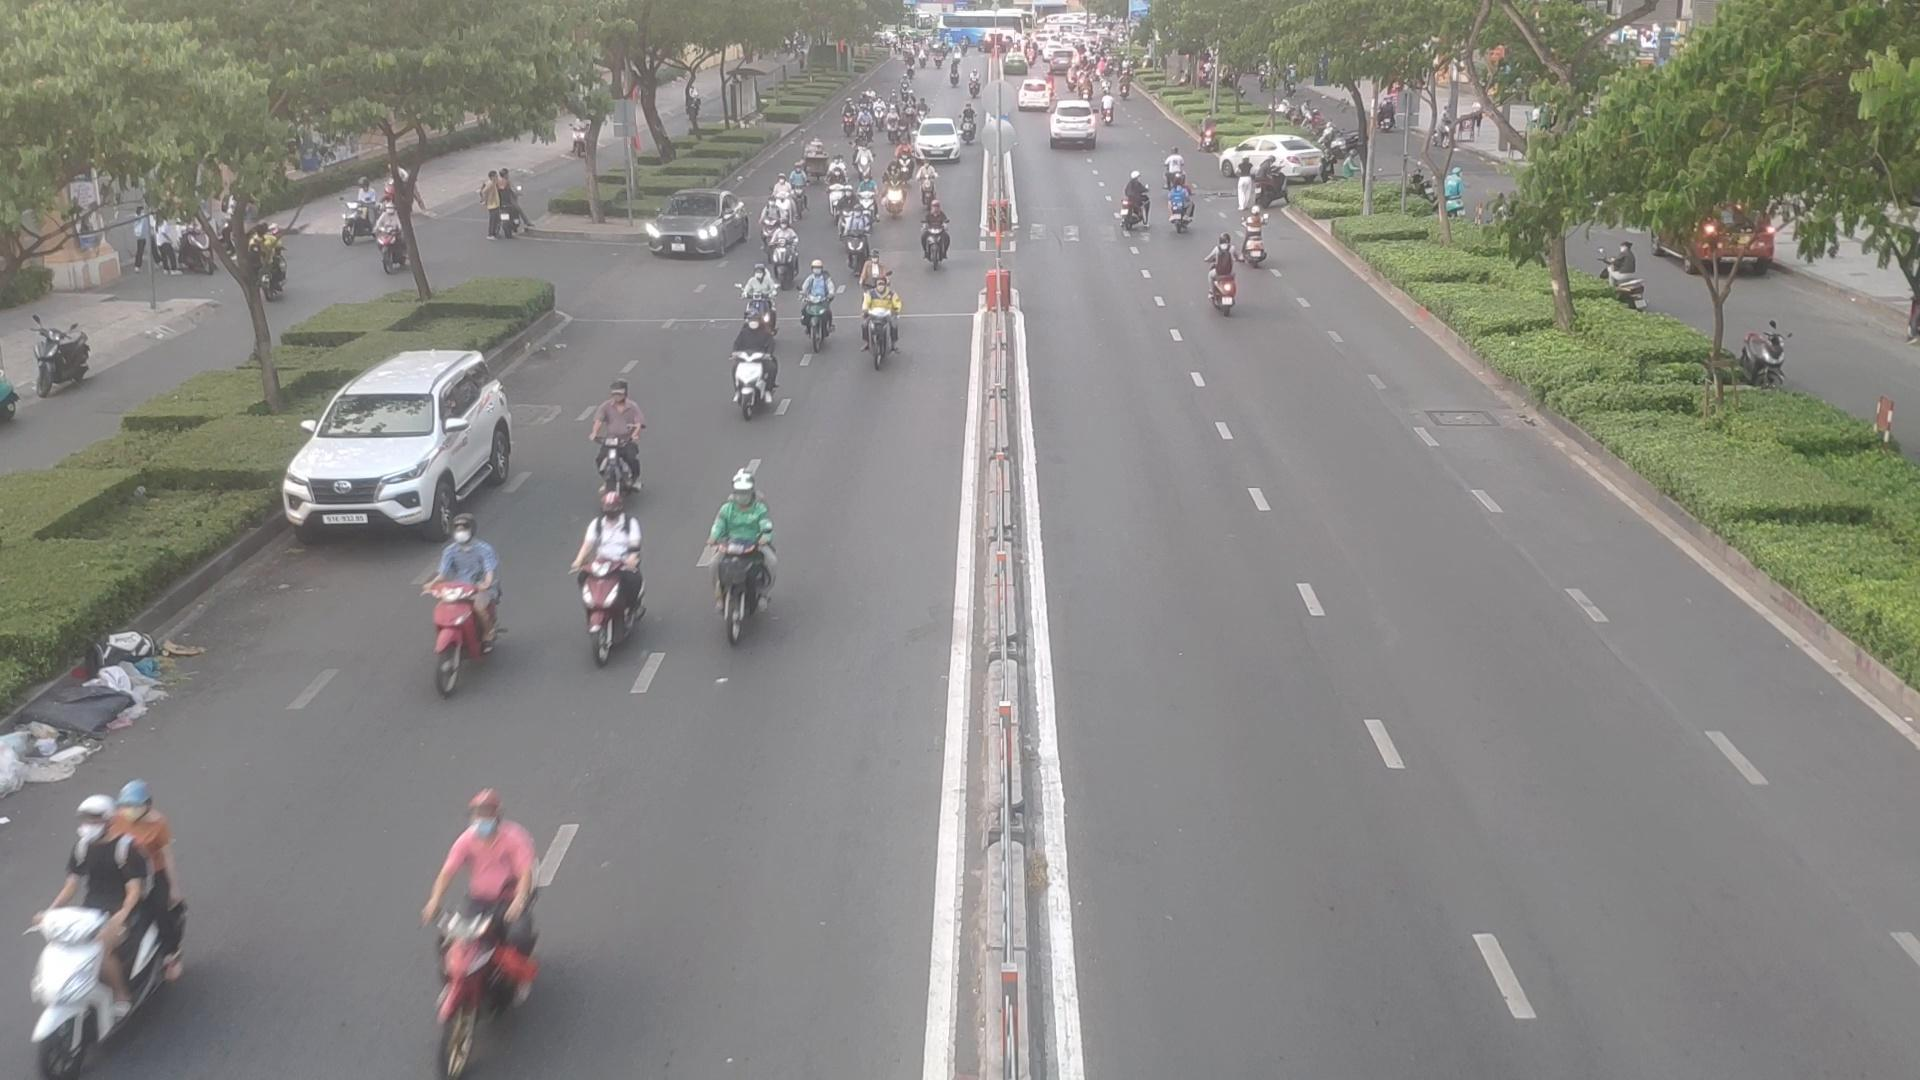car: (278, 345, 520, 538), (642, 191, 752, 260), (1217, 131, 1324, 178)
motorbike: (33, 770, 189, 1036), (426, 783, 545, 1062), (429, 513, 495, 686), (585, 475, 625, 673), (711, 473, 760, 626), (580, 381, 629, 505), (731, 303, 766, 413), (856, 277, 893, 363), (796, 265, 827, 343), (1211, 228, 1234, 315), (737, 265, 771, 320), (847, 208, 872, 276), (1122, 173, 1153, 223), (769, 225, 796, 280), (1162, 186, 1196, 227), (924, 203, 949, 257), (1244, 208, 1263, 266), (775, 179, 796, 225), (758, 202, 778, 247), (920, 161, 943, 200), (1160, 152, 1185, 185), (887, 167, 903, 216), (857, 142, 876, 181), (897, 140, 914, 179), (793, 167, 808, 210), (862, 174, 877, 214), (827, 169, 839, 210)
